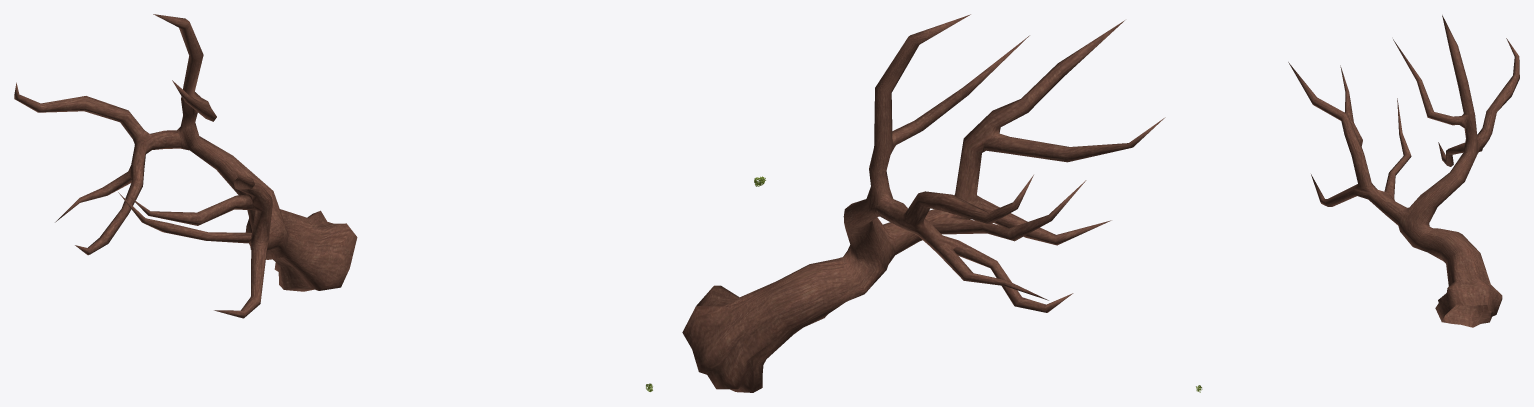
File: tree.fbx
3 renders of one model, left to right at view 1: azimuth 30°, elevation 25°; view 2: azimuth 150°, elevation 25°; view 3: azimuth 270°, elevation 25°, orthographic. The views are drawn at different scales.
Visible parts, largest first — view 1: treebrown_002; view 2: treebrown_002; view 3: treebrown_002.
Part boxes in pixels (left/top/right/bottom): treebrown_002: left=14, top=14, right=357, bottom=318; treebrown_002: left=682, top=14, right=1165, bottom=392; treebrown_002: left=1288, top=15, right=1519, bottom=327.
Size of the model in its own units: 1010 by 762 by 876.
